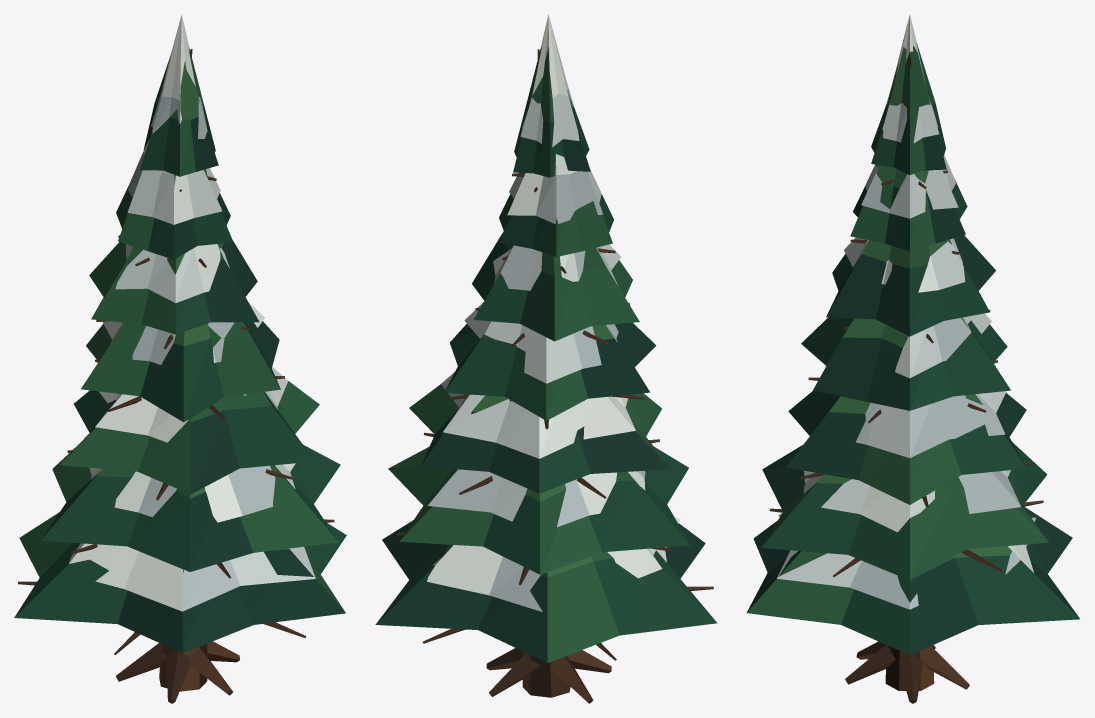
The model's file is tree_fir_snow.obj.
The picture shows the model from 3 angles, left to right: view 1: azimuth 30°, elevation 25°; view 2: azimuth 150°, elevation 25°; view 3: azimuth 270°, elevation 25°; orthographic projection.
Visible parts, largest first — view 1: tree_fir_snow; view 2: tree_fir_snow; view 3: tree_fir_snow.
Part boxes in pixels (x1=…): tree_fir_snow: x1=14, y1=14, x2=346, y2=703; tree_fir_snow: x1=375, y1=14, x2=717, y2=703; tree_fir_snow: x1=746, y1=14, x2=1079, y2=703.
Size of the model in its own units: 407 by 780 by 354.
1 material, 1 textured.
